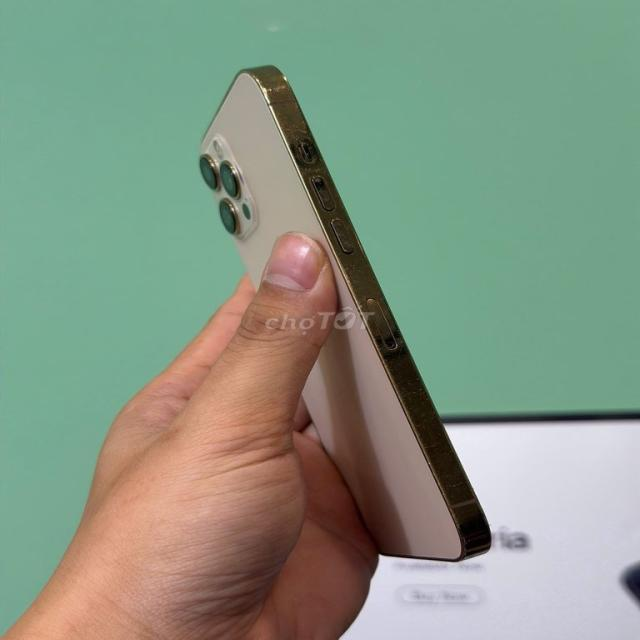gen_12_13: (195, 56, 500, 572)
